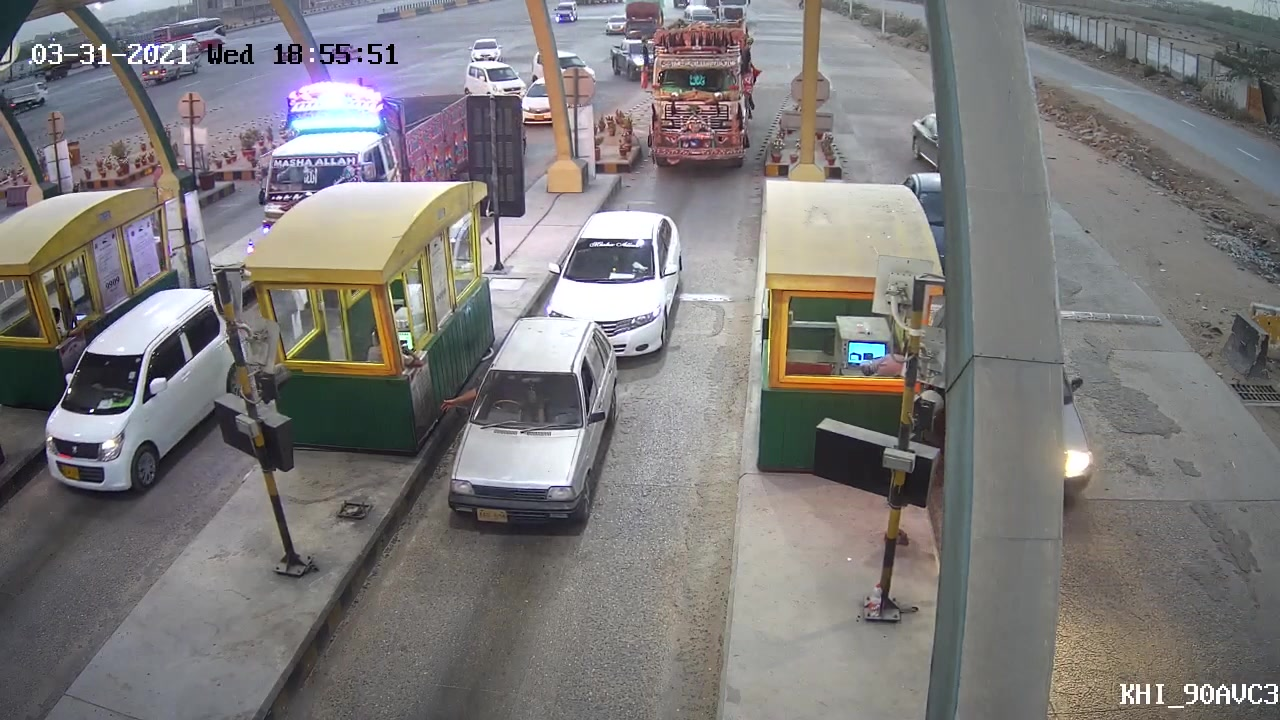F1: (433, 313, 621, 534), (539, 206, 689, 359)
